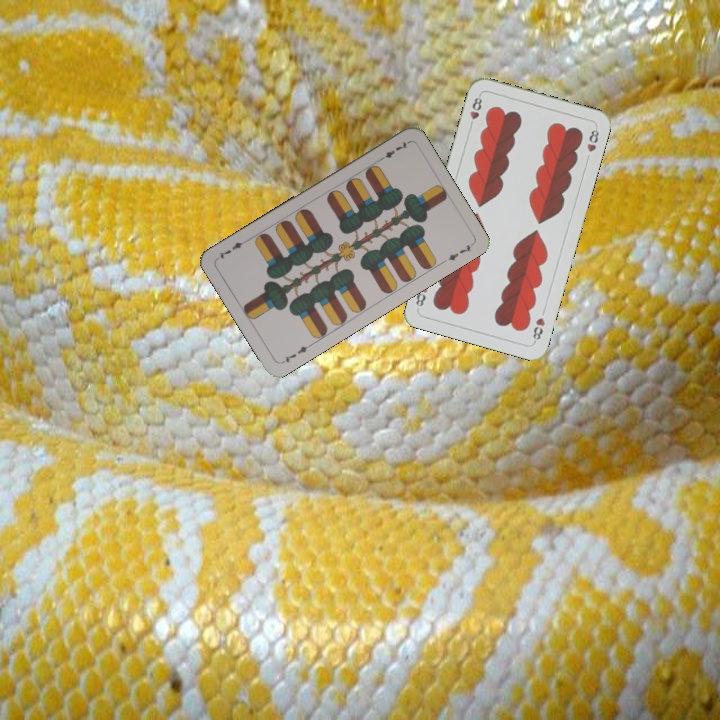E7: (375, 137, 411, 164), (278, 340, 314, 366)
H8: (466, 91, 485, 131), (529, 313, 548, 345)
